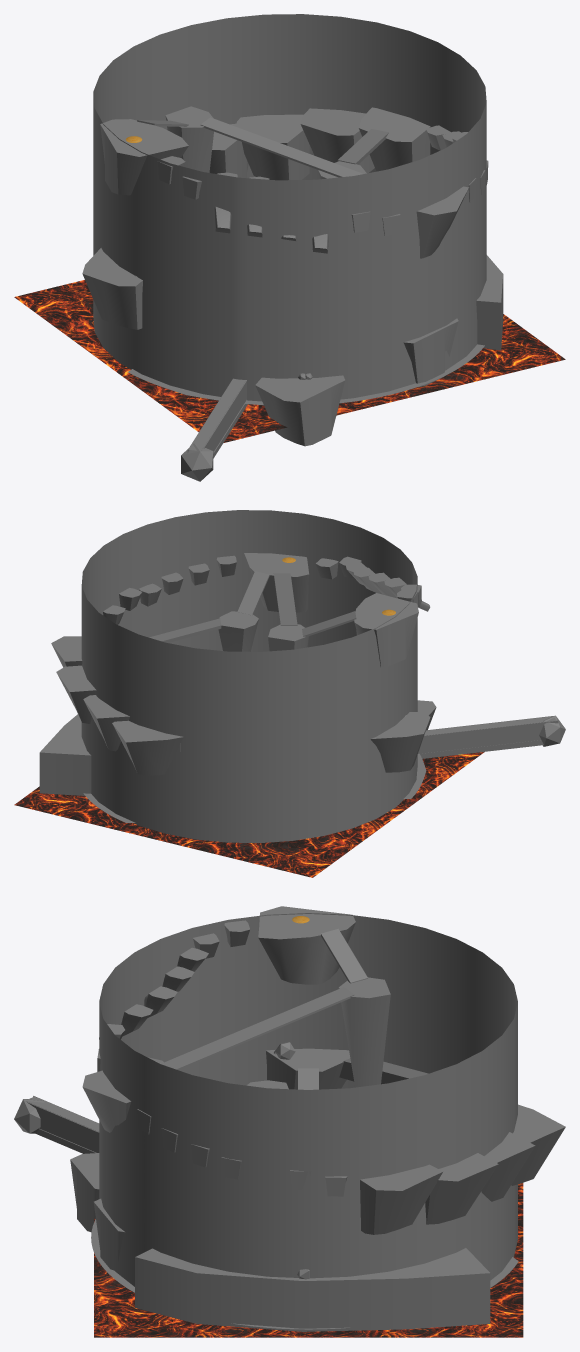
File: gameplay.fbx
The picture shows the model from 3 angles, top to bottom: view 1: azimuth 30°, elevation 25°; view 2: azimuth 150°, elevation 25°; view 3: azimuth 270°, elevation 25°; orthographic projection. The views are drawn at different scales.
Visible parts, largest first — view 1: wall2, wall1, wall, Lava1, pCube10, pCube43, pCube18, pCube11, pCube20, pCube19, pCube2, pCube44 (+9 smaller); view 2: wall2, wall1, wall, Lava1, pCube2, pCube43, pPlane3, pCube17, pCube29, pCube11, pCube30, pCube19 (+10 smaller); view 3: wall2, wall1, wall, pCube2, Lava1, pCube43, pCube33, pCube20, pCube19, pCube44, pCube11, pCube17 (+14 smaller).
Boxes of the visible parts, x1,y1,x2,y2 form: wall2: (93,14,486,269); wall1: (93,81,486,336); wall: (93,151,486,401); Lava1: (14,280,565,442); pCube10: (255,375,345,446); pCube43: (100,119,188,195); pCube18: (235,114,312,180); pCube11: (82,248,142,329); pCube20: (359,107,430,171); pCube19: (300,108,374,173); pCube2: (476,255,503,350); pCube44: (200,117,363,177); wall2: (81,510,417,728); wall1: (81,567,417,785); wall: (81,625,417,842); Lava1: (14,752,484,877); pCube2: (39,714,91,795); pCube43: (354,593,418,667); pPlane3: (418,720,558,758); pCube17: (112,720,183,775); pCube29: (244,553,309,612); pCube11: (370,712,430,772); pCube30: (218,611,258,651); pCube19: (56,665,96,723); wall2: (99,913,517,1184); wall1: (99,984,517,1255); wall: (99,1058,517,1286); pCube2: (135,1248,490,1331); Lava1: (94,1183,523,1337); pCube43: (258,906,355,984); pCube33: (338,977,390,1087); pCube20: (360,1164,442,1234); pCube19: (425,1153,498,1224); pCube44: (161,987,354,1070); pCube11: (266,1048,350,1089); pCube17: (511,1104,565,1185).
Size of the model in its own units: 49.75 by 27.87 by 52.72.
